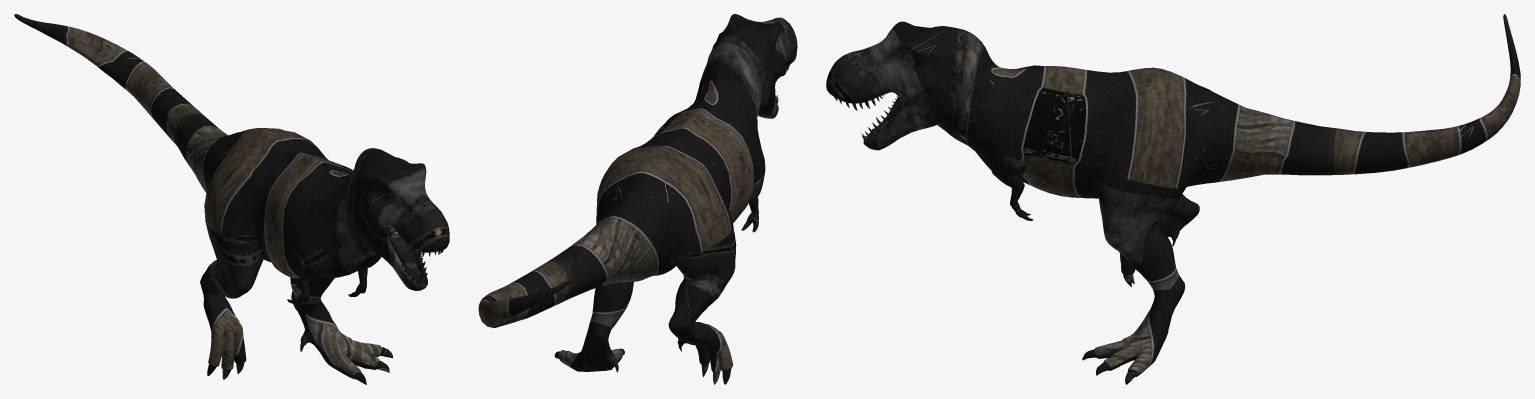
The model's file is rex.obj.
The picture shows the model from 3 angles, left to right: view 1: azimuth 30°, elevation 25°; view 2: azimuth 150°, elevation 25°; view 3: azimuth 270°, elevation 25°; orthographic projection. The views are drawn at different scales.
Visible parts, largest first — view 1: tyrannosaurus_rex.1_Mesh_0; view 2: tyrannosaurus_rex.1_Mesh_0; view 3: tyrannosaurus_rex.1_Mesh_0.
Part boxes in pixels (box(x1,y1,x2,y2)): tyrannosaurus_rex.1_Mesh_0: box(14, 14, 449, 384); tyrannosaurus_rex.1_Mesh_0: box(478, 14, 797, 384); tyrannosaurus_rex.1_Mesh_0: box(826, 14, 1520, 384).
Size of the model in its own units: 2.75 by 3.91 by 8.02.
